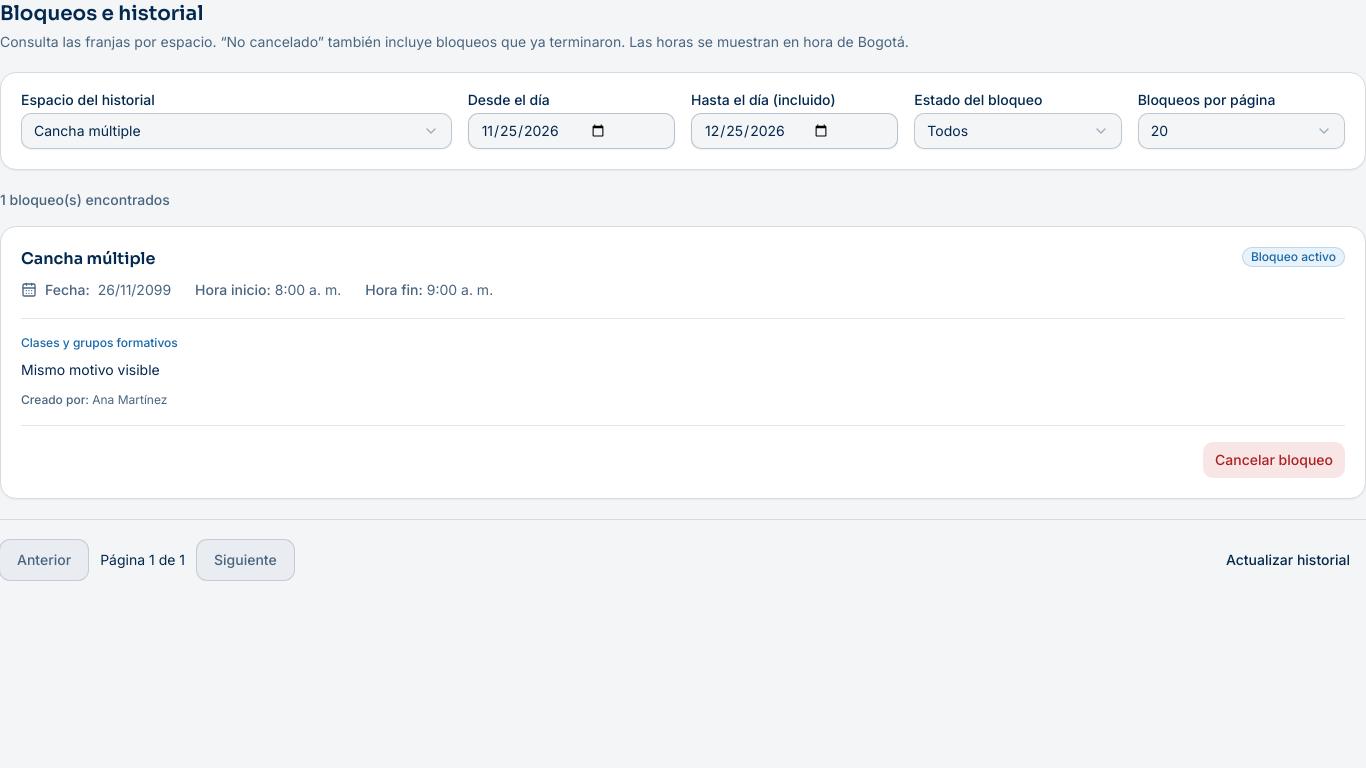
Test: reintenta con el mismo motivo después de un resultado incierto, incluso tras el fin
Step 1. Click the button "Cancelar bloqueo" → (1274, 460), box [1203,442,1345,478]
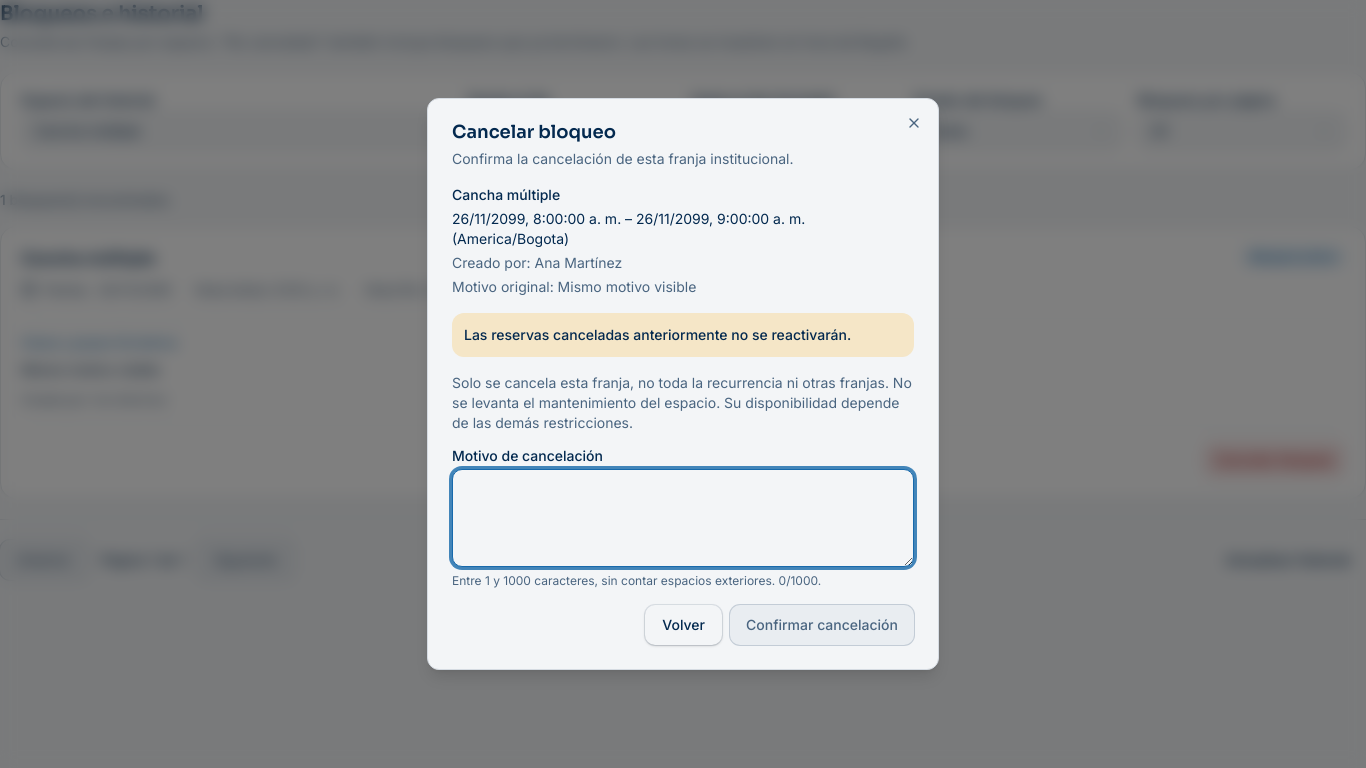
Step 2. Type "Original" into the text box labelled "Motivo de cancelación" → (683, 518), box [452,469,914,567]
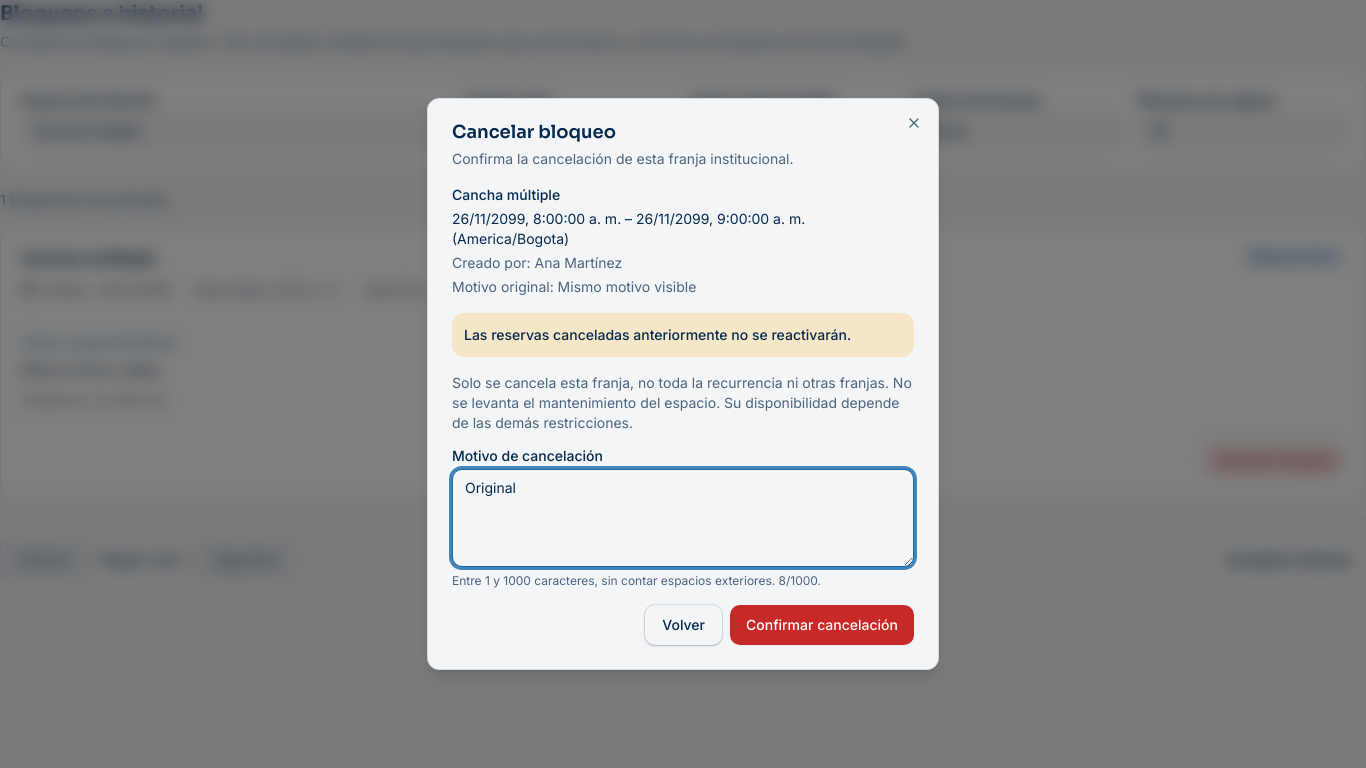
Step 3. Click the button "Confirmar cancelación" → (822, 625), box [730,605,914,645]
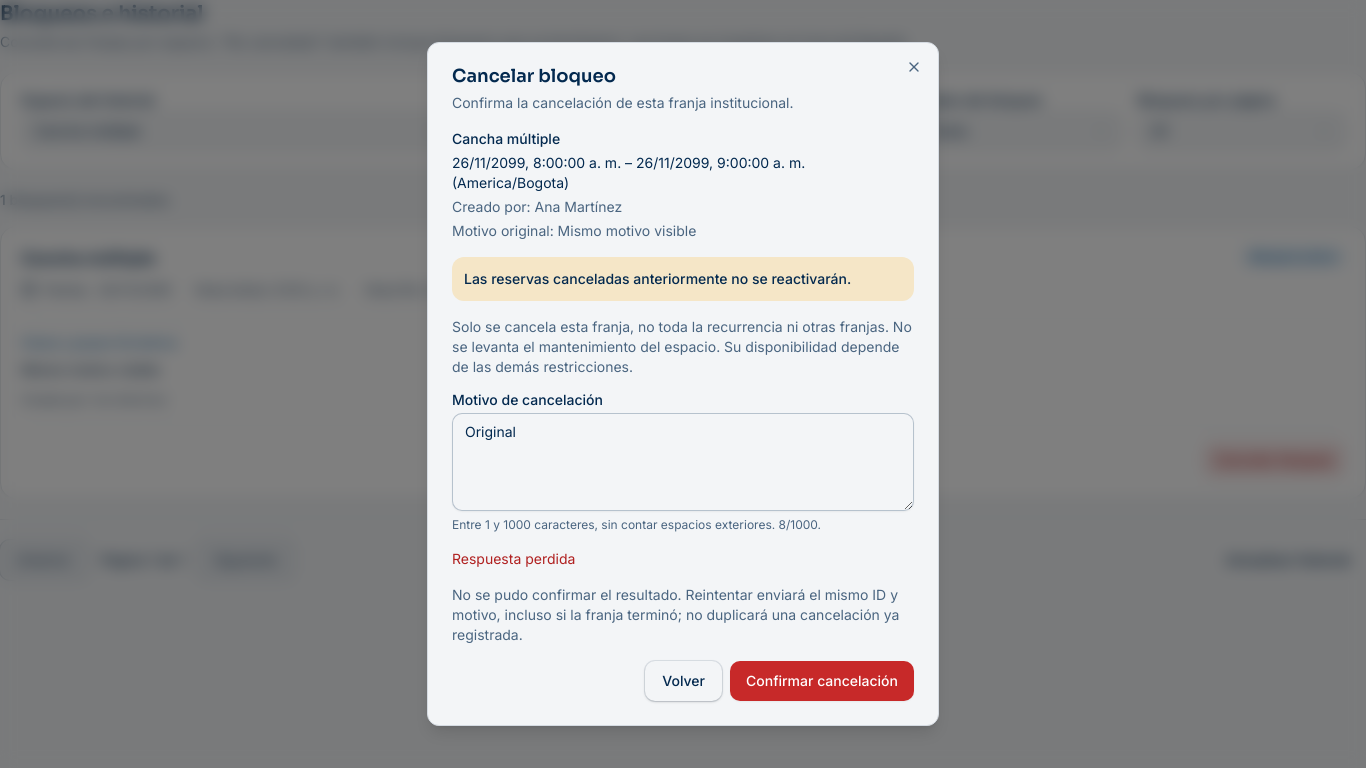
Now the text "Respuesta perdida" is shown, box [452,550,575,567]
Step 4. Click the button "Confirmar cancelación" → (822, 681), box [730,661,914,701]
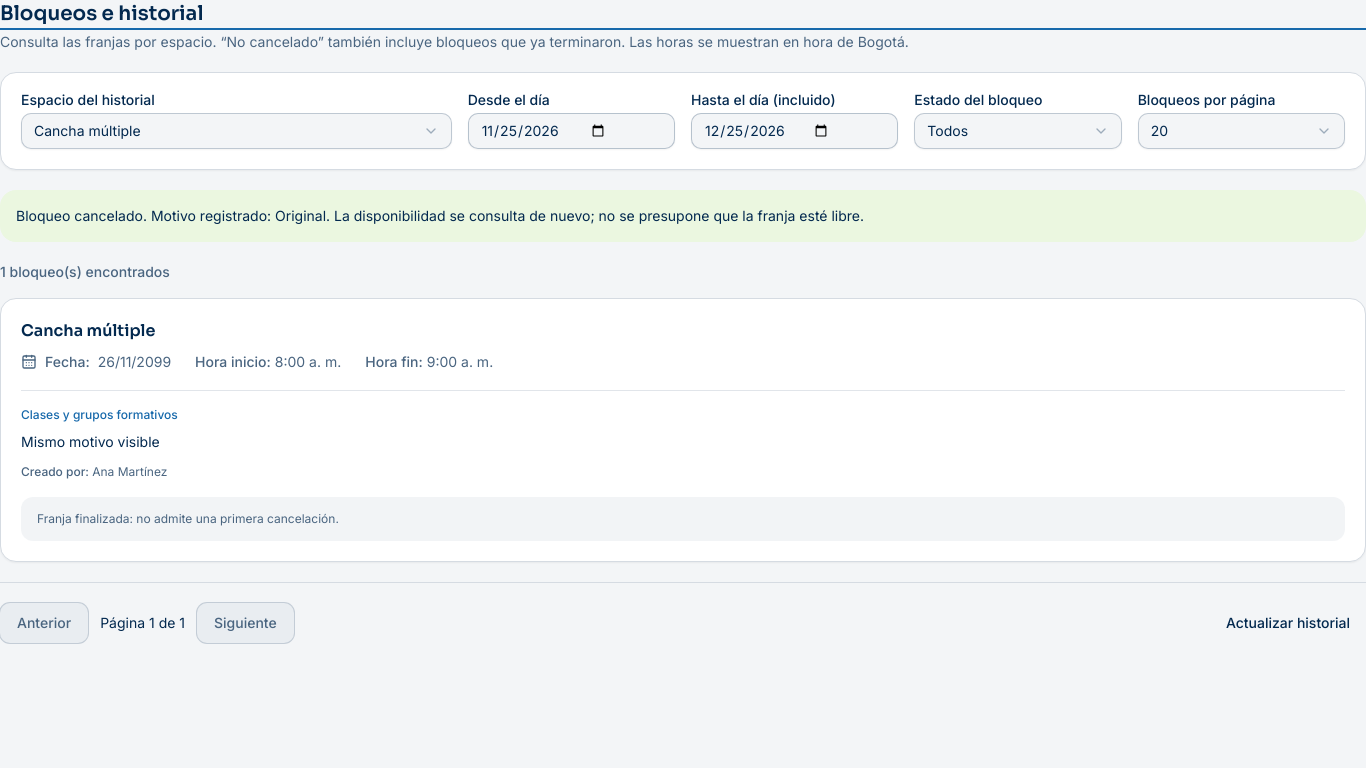
Now the text "Motivo registrado: Original" is shown, box [16,207,864,224]
